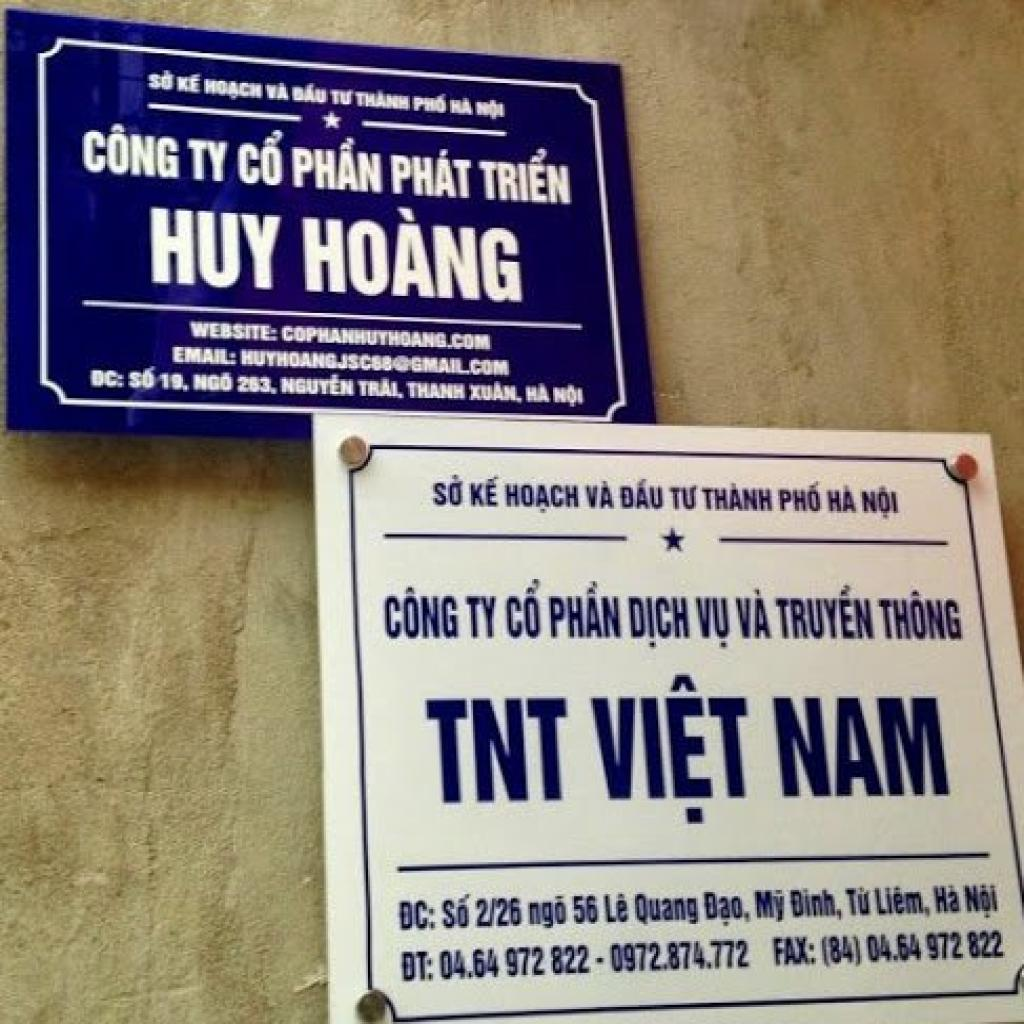text: (583, 675, 761, 824), (296, 202, 530, 309), (768, 698, 954, 803), (416, 692, 576, 807), (145, 202, 282, 298), (240, 349, 511, 379), (282, 324, 496, 356), (774, 581, 879, 645), (437, 941, 593, 984), (76, 121, 181, 183), (603, 937, 755, 979), (290, 136, 389, 200), (477, 149, 574, 209), (376, 579, 462, 643), (389, 145, 477, 204), (877, 588, 967, 645), (546, 579, 624, 641), (622, 594, 692, 651), (502, 475, 582, 519), (236, 126, 288, 192), (502, 575, 546, 643), (633, 888, 702, 930), (694, 592, 738, 653), (732, 585, 778, 643), (870, 881, 934, 922), (700, 479, 776, 513), (185, 134, 233, 187), (763, 930, 822, 971), (788, 883, 846, 922), (700, 888, 753, 930), (280, 373, 358, 398), (475, 892, 526, 930), (391, 896, 437, 937), (776, 477, 828, 513), (526, 892, 572, 932), (460, 590, 498, 638), (425, 471, 467, 513), (860, 481, 902, 522), (393, 945, 435, 986), (620, 475, 667, 511), (466, 381, 526, 409), (750, 883, 790, 924), (963, 879, 1001, 922), (191, 324, 280, 342), (355, 87, 412, 115), (440, 888, 478, 930), (408, 381, 469, 407), (206, 79, 263, 104), (927, 877, 963, 916), (357, 375, 406, 402), (170, 347, 238, 366), (467, 472, 502, 508), (667, 479, 702, 513), (238, 375, 282, 402), (553, 383, 589, 415), (845, 884, 877, 920), (568, 892, 601, 926), (88, 366, 128, 394), (826, 481, 858, 515), (601, 890, 633, 924), (585, 477, 616, 511), (194, 370, 236, 392), (478, 98, 518, 121), (412, 92, 450, 115), (128, 364, 158, 392), (145, 68, 177, 94), (526, 379, 553, 407), (160, 370, 191, 394), (176, 70, 202, 98), (292, 83, 326, 104), (265, 83, 290, 106), (330, 85, 355, 107), (450, 96, 473, 119)
